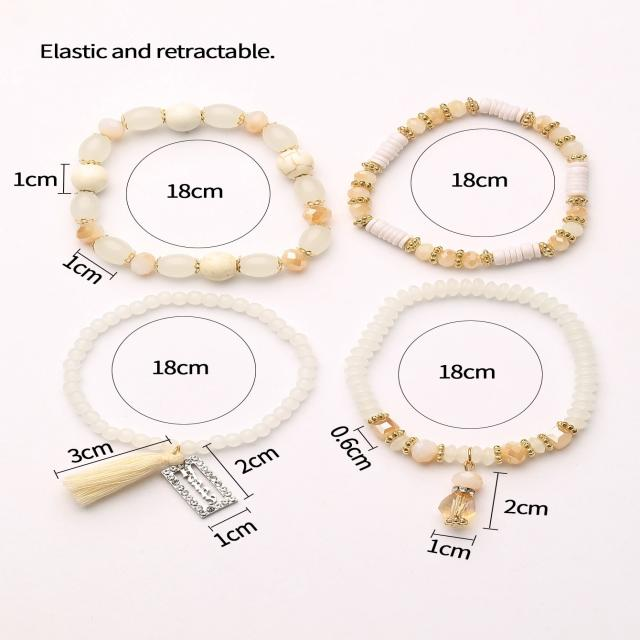bracelet: (24, 63, 361, 302), (316, 269, 640, 490), (333, 73, 640, 282), (14, 274, 333, 475)
